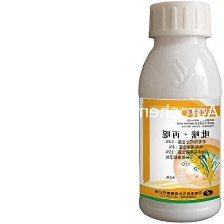insecticide: (137, 0, 224, 223)
